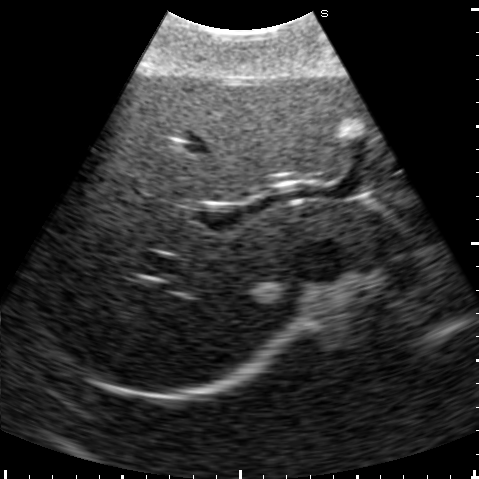IVC: (290, 240, 344, 278)
S1: (314, 204, 395, 263)
S2: (373, 192, 437, 237)
S3: (362, 117, 409, 188)
S4: (103, 73, 367, 200)
Tumor: (252, 282, 281, 305), (338, 119, 364, 139)
